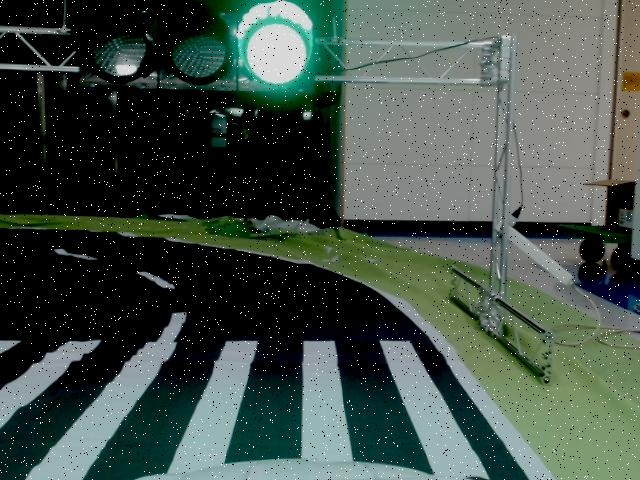crosswalk: (0, 334, 490, 480)
traffic light-green-: (72, 0, 316, 93)
